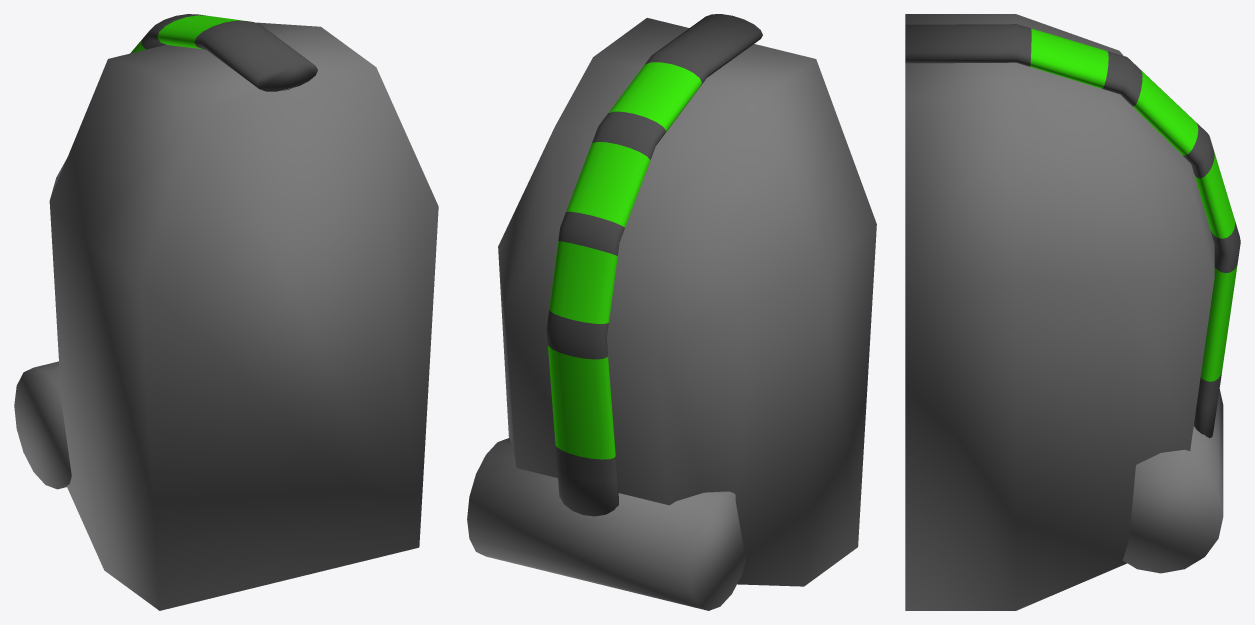
File: Mochila.fbx
The picture shows the model from 3 angles, left to right: view 1: azimuth 30°, elevation 25°; view 2: azimuth 150°, elevation 25°; view 3: azimuth 270°, elevation 25°; orthographic projection. The views are drawn at different scales.
Visible parts, largest first — view 1: Mochila; view 2: Mochila; view 3: Mochila.
Boxes of the visible parts, left/top/right/bottom form: Mochila: left=14, top=14, right=438, bottom=610; Mochila: left=467, top=14, right=876, bottom=610; Mochila: left=905, top=14, right=1240, bottom=610.
Size of the model in its own units: 23.91 by 39.45 by 23.27.
